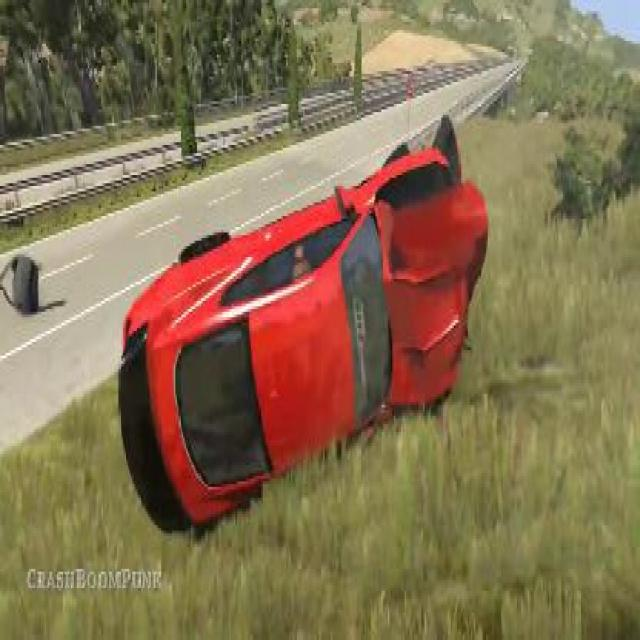accident: (115, 147, 488, 538)
